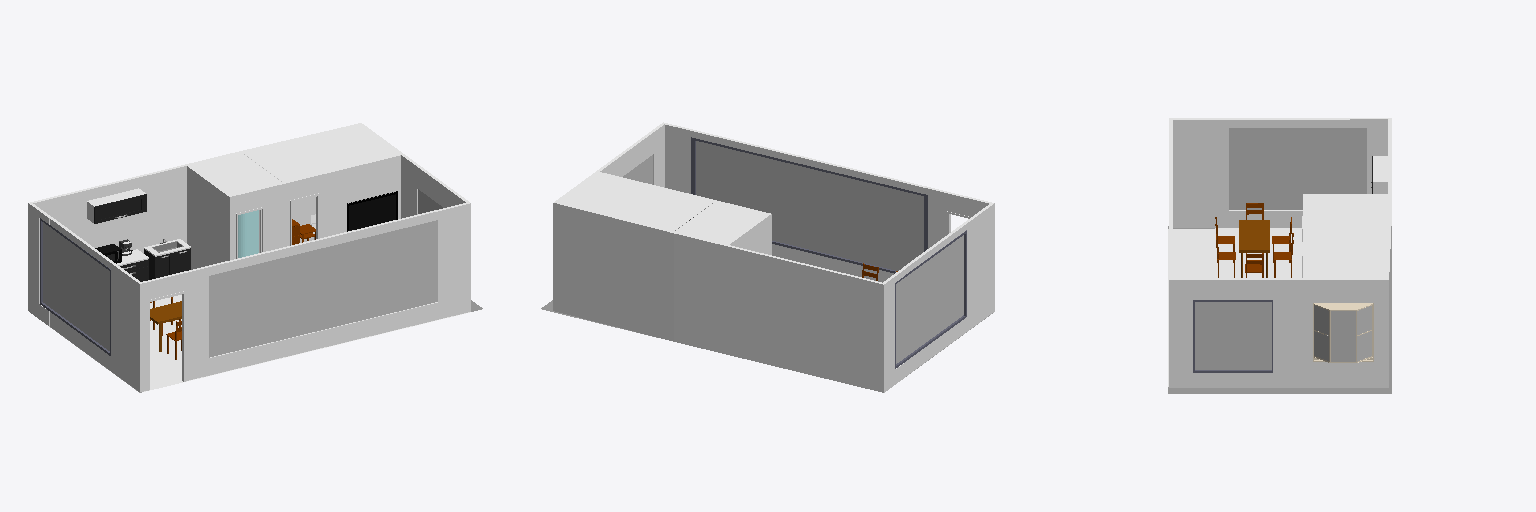
Rendered from Casa-1.obj.
The picture shows the model from 3 angles: view 1: azimuth 30°, elevation 25°; view 2: azimuth 150°, elevation 25°; view 3: azimuth 270°, elevation 25°; orthographic projection.
Parts seen in each view (by area): view 1: 1_1_232, wall_2_10, wall_11_65, 1_1_228, room_13_75, wall_3_16, wall_9_53, wall_5_28, wall_10_59, room_14_76, room_15_78, 6_6_231 (+9 smaller); view 2: wall_11_64, 1_1_232, wall_8_46, wall_2_11, wall_12_70, 1_1_228, room_13_75, wall_3_16, room_15_78, wall_1_5, wall_4_23, 3_3_233 (+2 smaller); view 3: wall_1_4, 1_1_228, wall_3_17, 1_1_265, room_13_75, room_14_76, room_15_78, ground_1, sweethome3d_window_pane_257, Plateau_172, 6_6_227, wall_4_22 (+2 smaller).
Boxes of the visible parts, <box> form: 1_1_232: <box>209,220,437,357</box>; wall_2_10: <box>140,203,470,391</box>; wall_11_65: <box>33,166,186,253</box>; 1_1_228: <box>43,222,109,350</box>; room_13_75: <box>242,124,400,182</box>; wall_3_16: <box>50,219,139,391</box>; wall_9_53: <box>187,166,229,269</box>; wall_5_28: <box>333,155,400,234</box>; wall_10_59: <box>230,184,282,259</box>; room_14_76: <box>144,295,469,391</box>; room_15_78: <box>190,153,280,196</box>; 6_6_231: <box>205,217,441,360</box>; wall_11_64: <box>726,246,883,392</box>; 1_1_232: <box>696,141,923,270</box>; wall_8_46: <box>553,203,673,341</box>; wall_2_11: <box>665,125,988,282</box>; wall_12_70: <box>674,234,725,353</box>; 1_1_228: <box>896,235,963,363</box>; room_13_75: <box>558,172,715,230</box>; wall_3_16: <box>905,203,994,376</box>; room_15_78: <box>678,203,770,243</box>; wall_1_5: <box>600,124,664,187</box>; wall_4_23: <box>884,270,904,392</box>; 3_3_233: <box>691,137,927,273</box>; wall_1_4: <box>1169,280,1388,387</box>; 1_1_228: <box>1229,128,1366,209</box>; wall_3_17: <box>1173,120,1349,227</box>; 1_1_265: <box>1195,302,1271,369</box>; room_13_75: <box>1303,221,1387,277</box>; room_14_76: <box>1168,228,1301,386</box>; room_15_78: <box>1303,195,1387,219</box>; ground_1: <box>1168,226,1391,393</box>; sweethome3d_window_pane_257: <box>1331,311,1355,361</box>; Plateau_172: <box>1239,220,1269,252</box>; 6_6_227: <box>1226,126,1369,212</box>; wall_4_22: <box>1350,119,1387,193</box>.
Bounding box in the file's own units: 830 × 250 × 467.